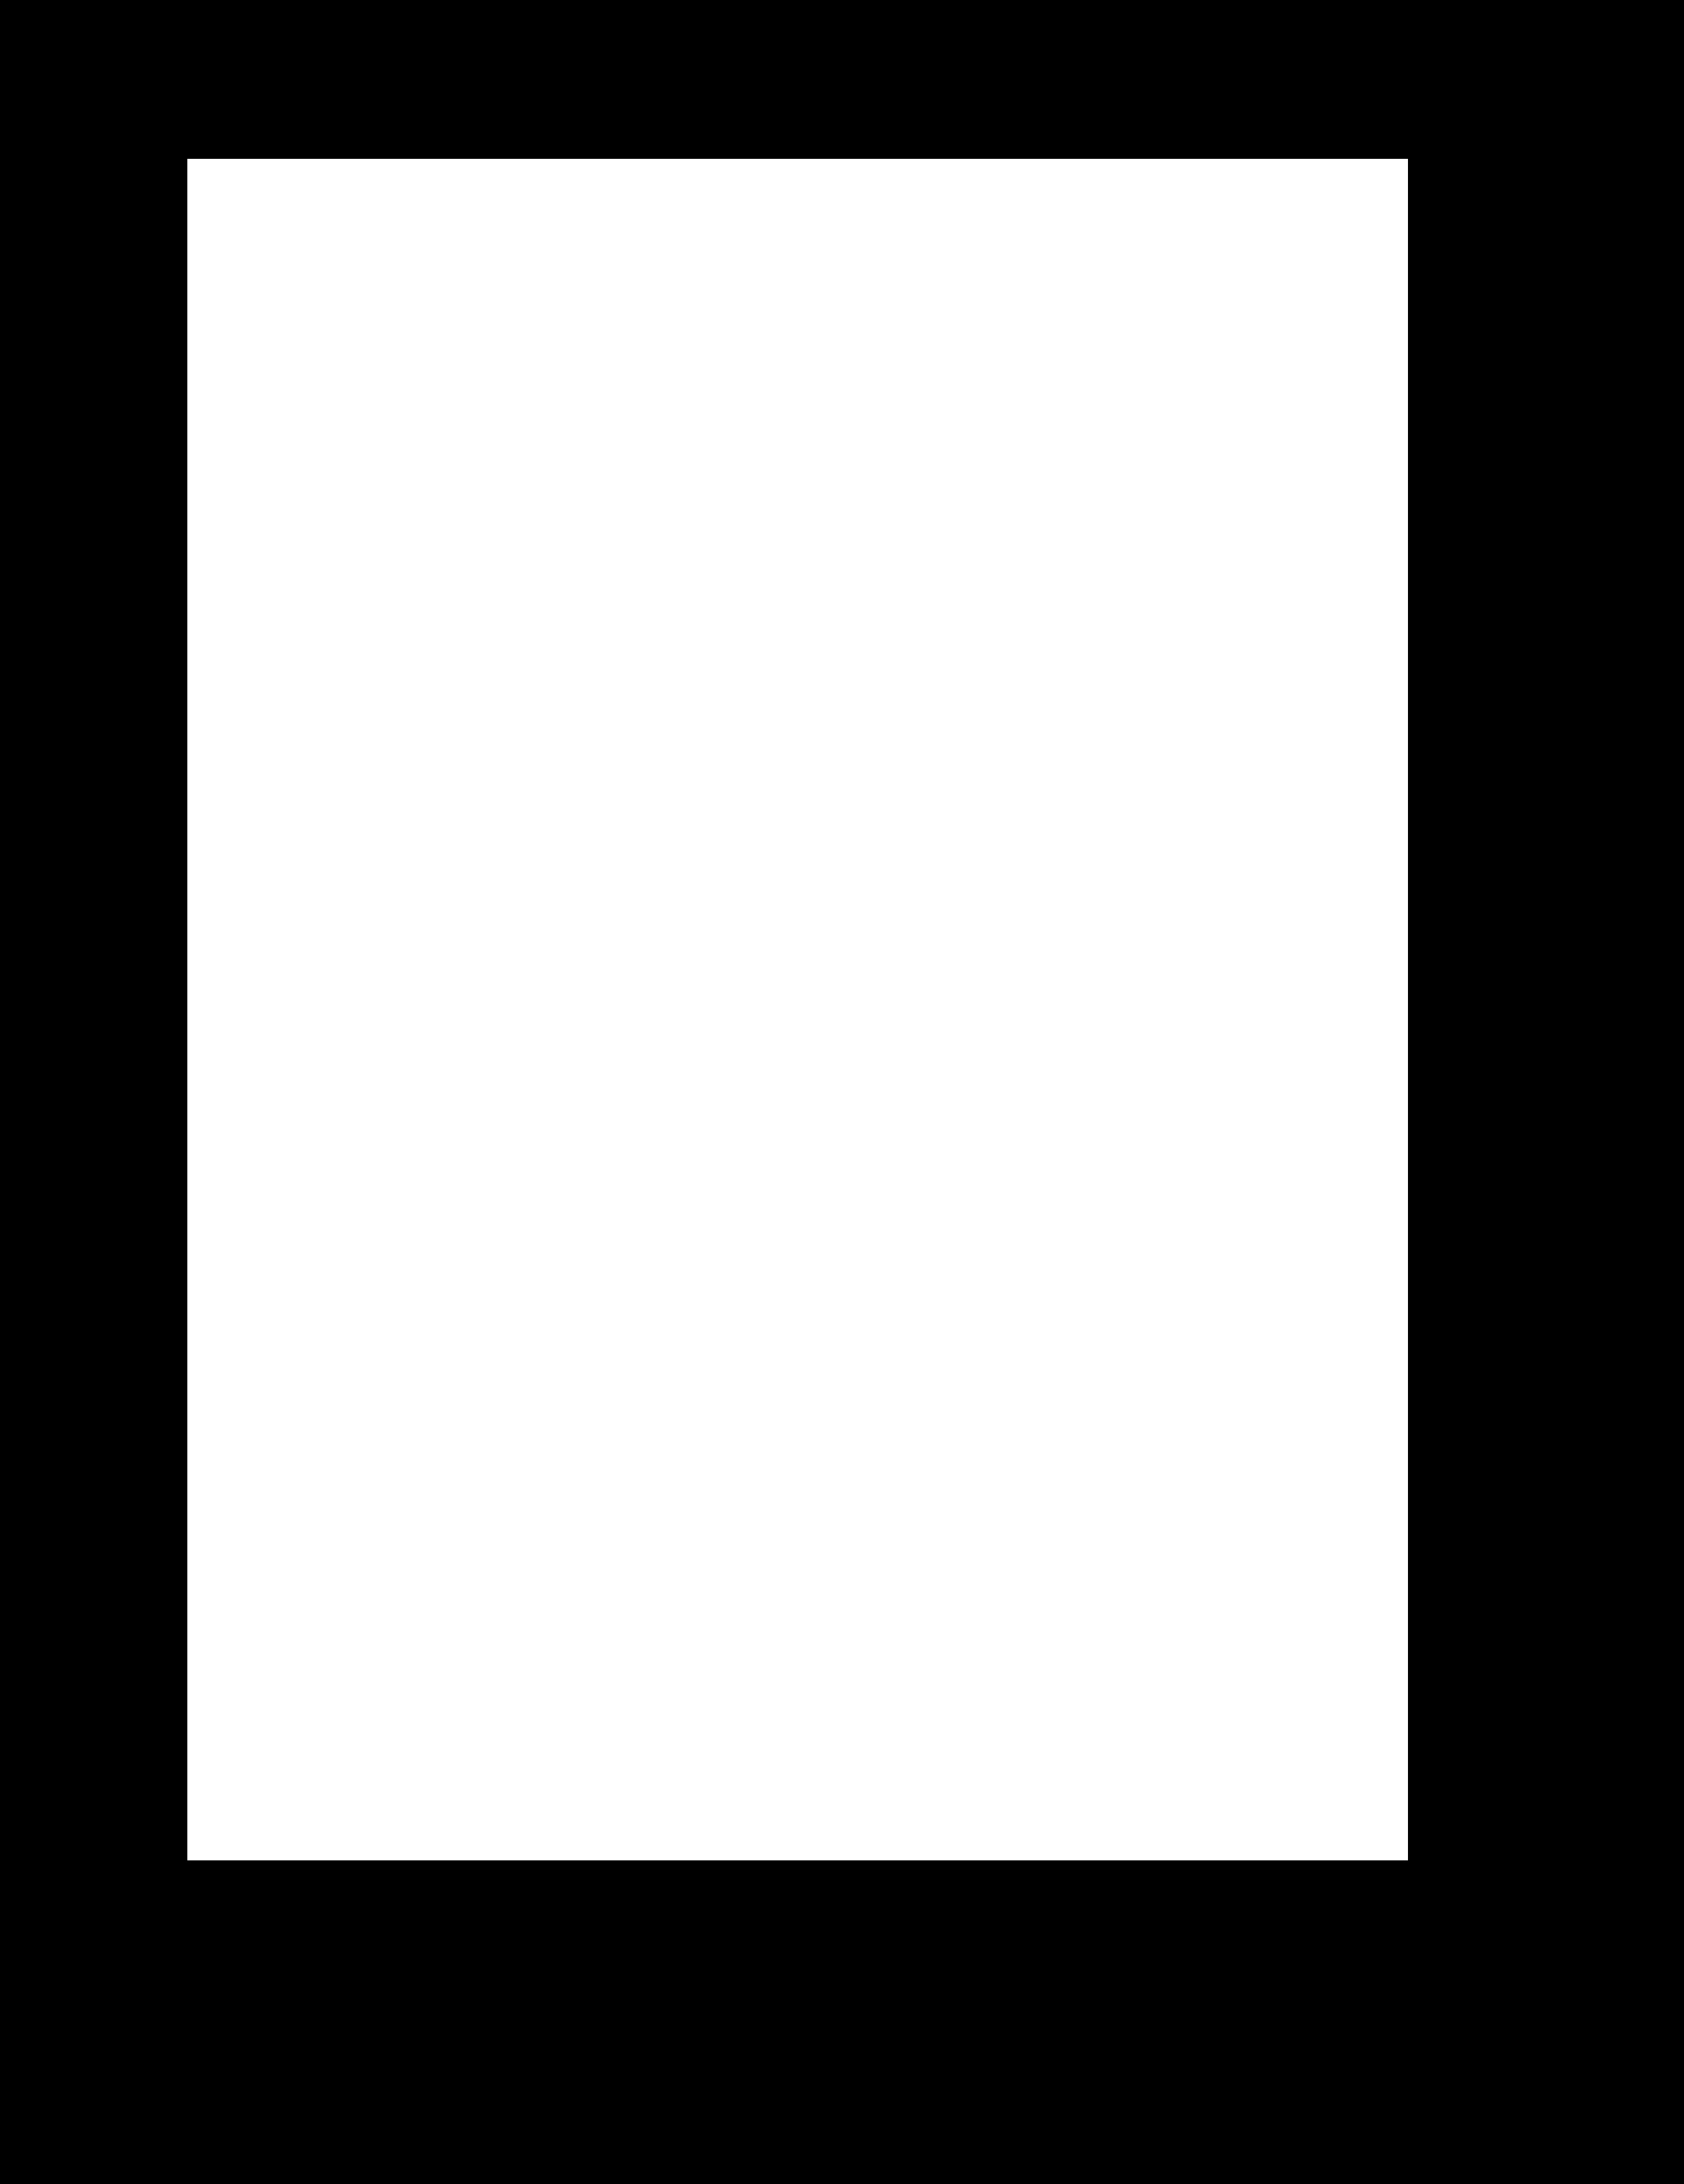table: (188, 159, 1408, 1860)
